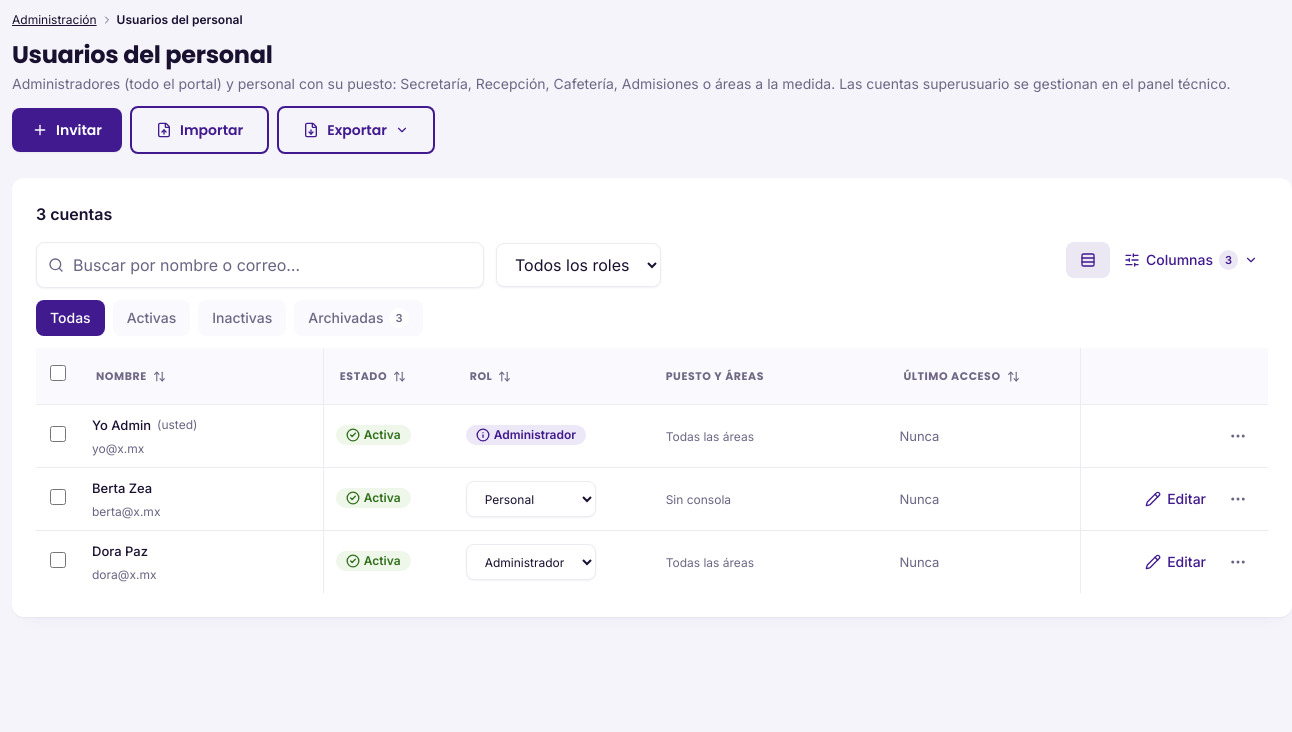
AdminStaffUsers (Data Ops Phase 3) › offers «Generar contraseña» for staff rows but never for another admin
The width and height of the screenshot is (1292, 732).
Expected: the button "Dora Paz" is shown, left=92, top=541, right=148, bottom=561
Click the button named "Más acciones para berta@x.mx" at (1238, 499), box left=1220, top=481, right=1256, bottom=517
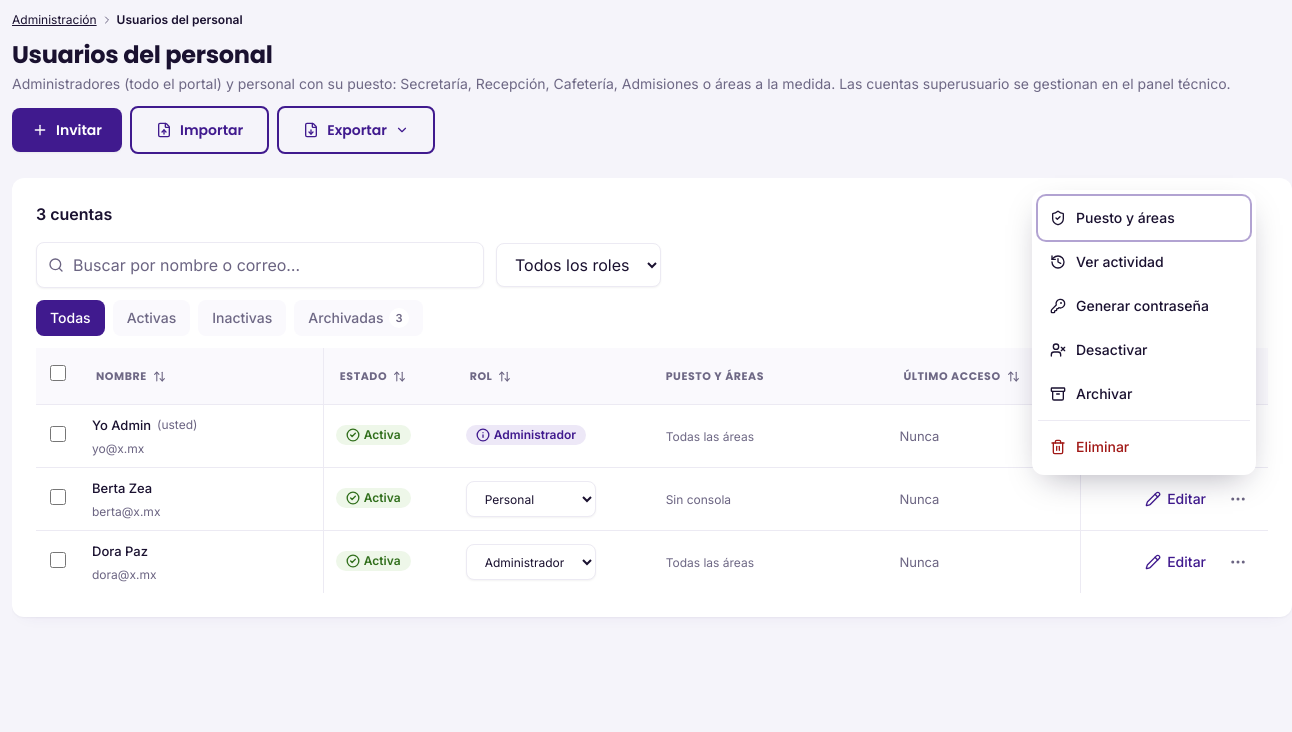
Result: the menu item "Generar contraseña" is shown at left=1038, top=284, right=1250, bottom=328
Press Escape
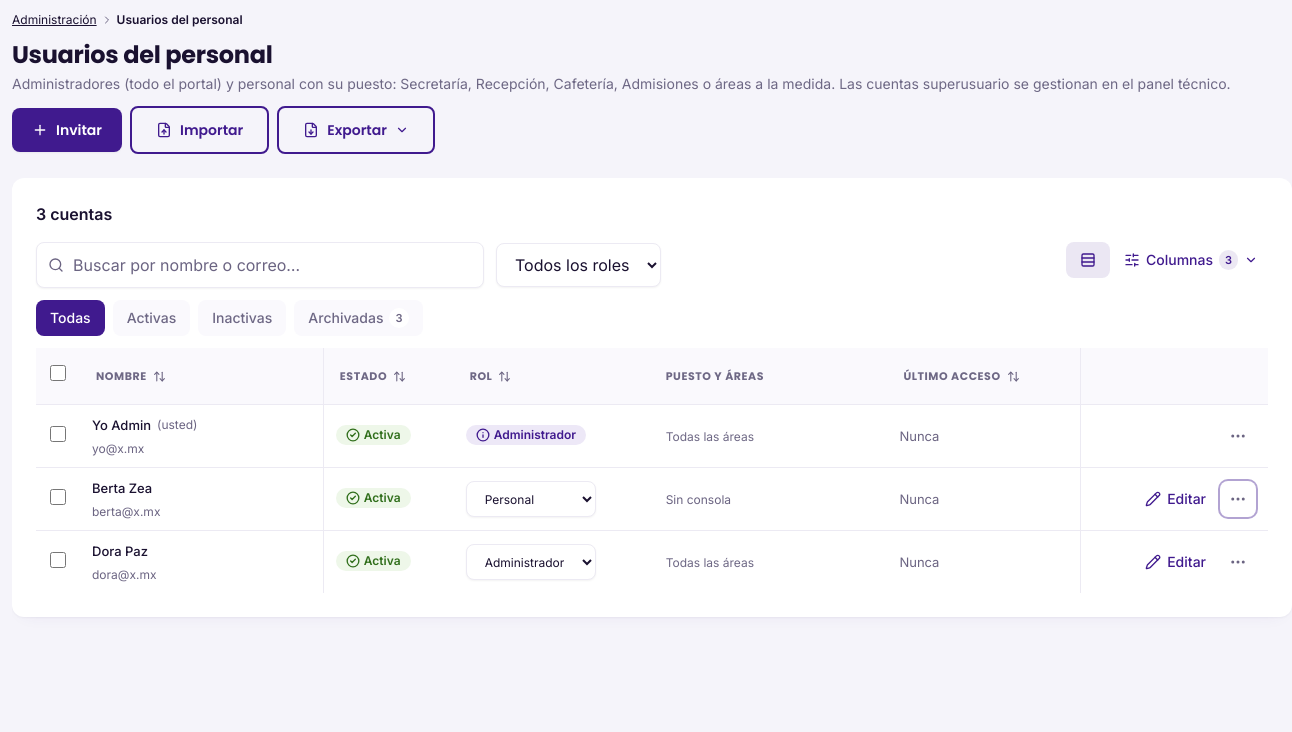
Click the button named "Más acciones para dora@x.mx" at (1238, 562), box left=1220, top=544, right=1256, bottom=580
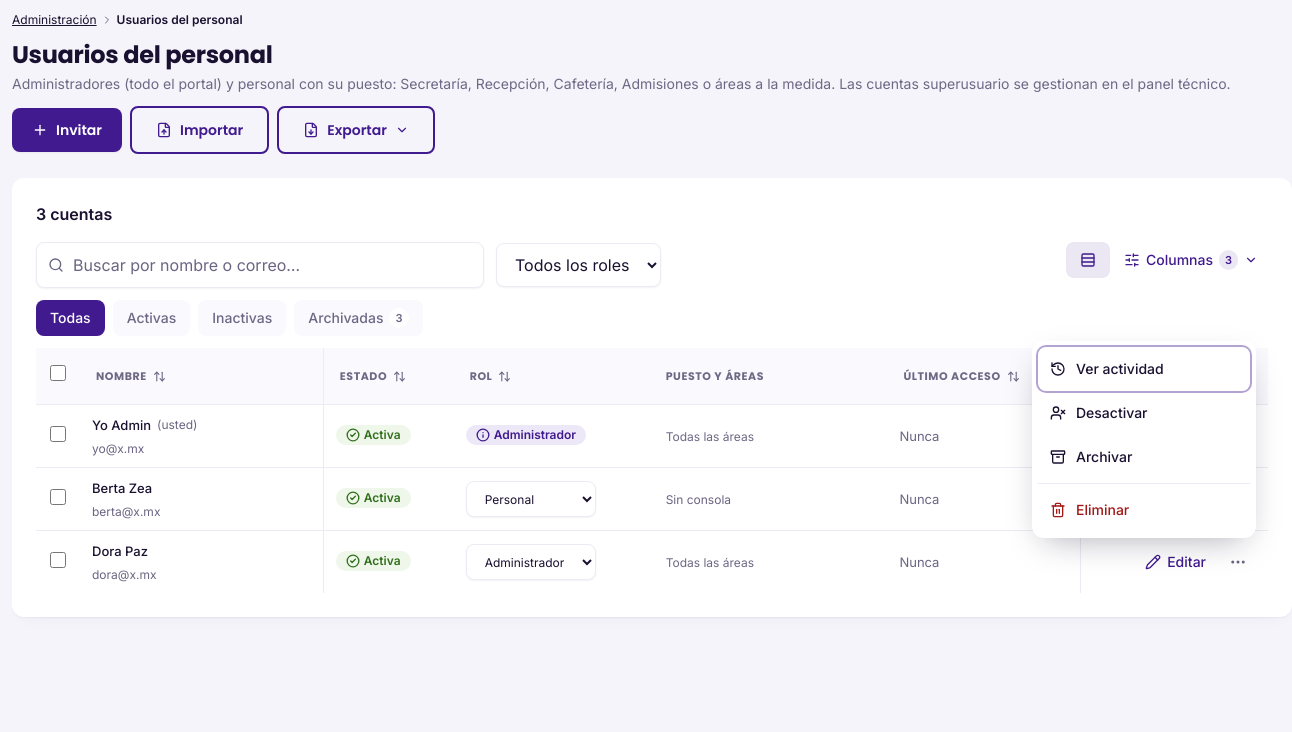
Expected: the menu item "Generar contraseña" is not shown
Result: the menu item "Desactivar" is shown at left=1038, top=391, right=1250, bottom=435
